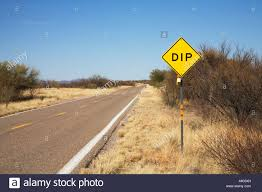dip: (163, 37, 202, 74)
